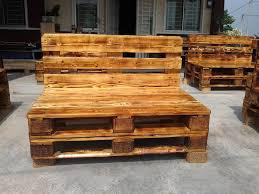wood: (28, 32, 210, 167), (187, 32, 254, 90)
